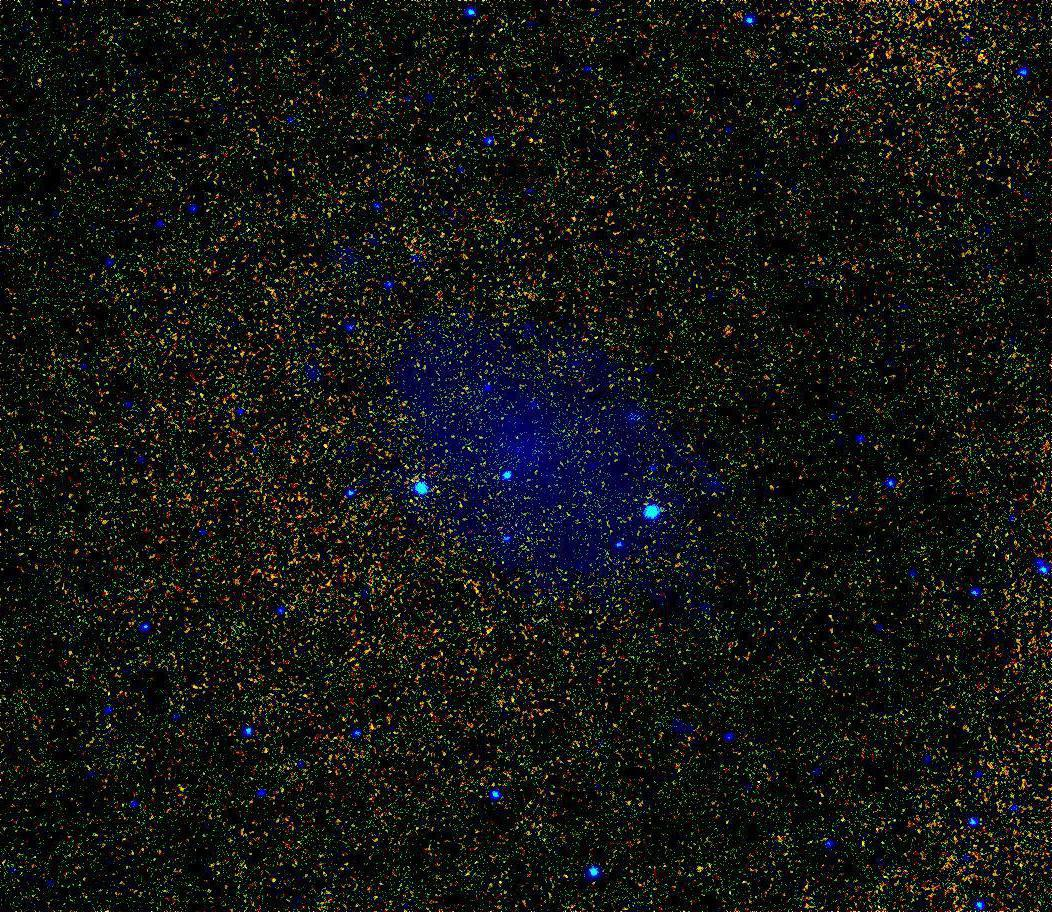star: (26, 63, 56, 93)
